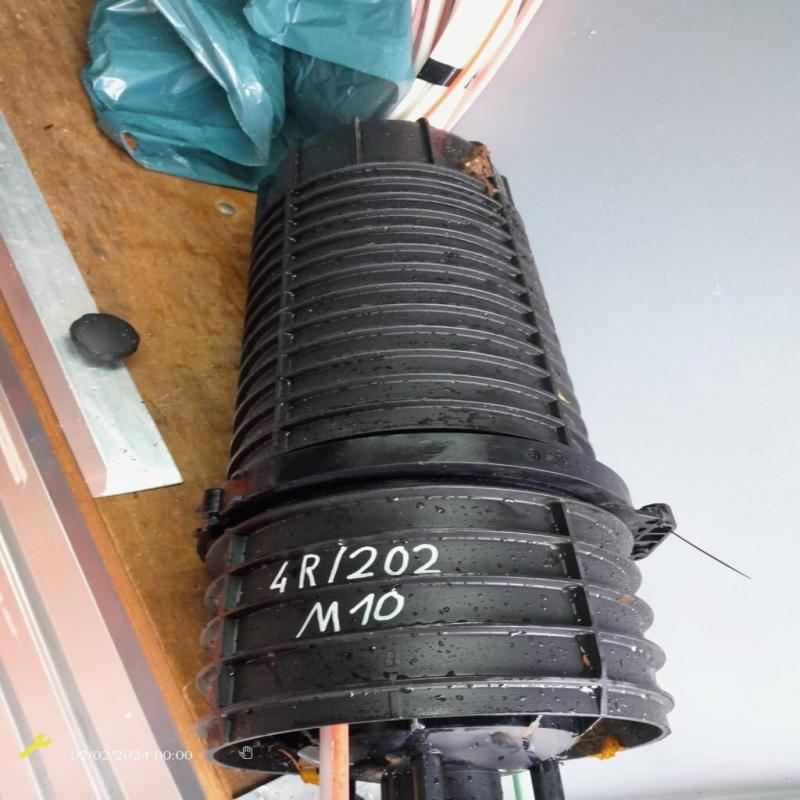NT-Muffen: (180, 117, 670, 781)
